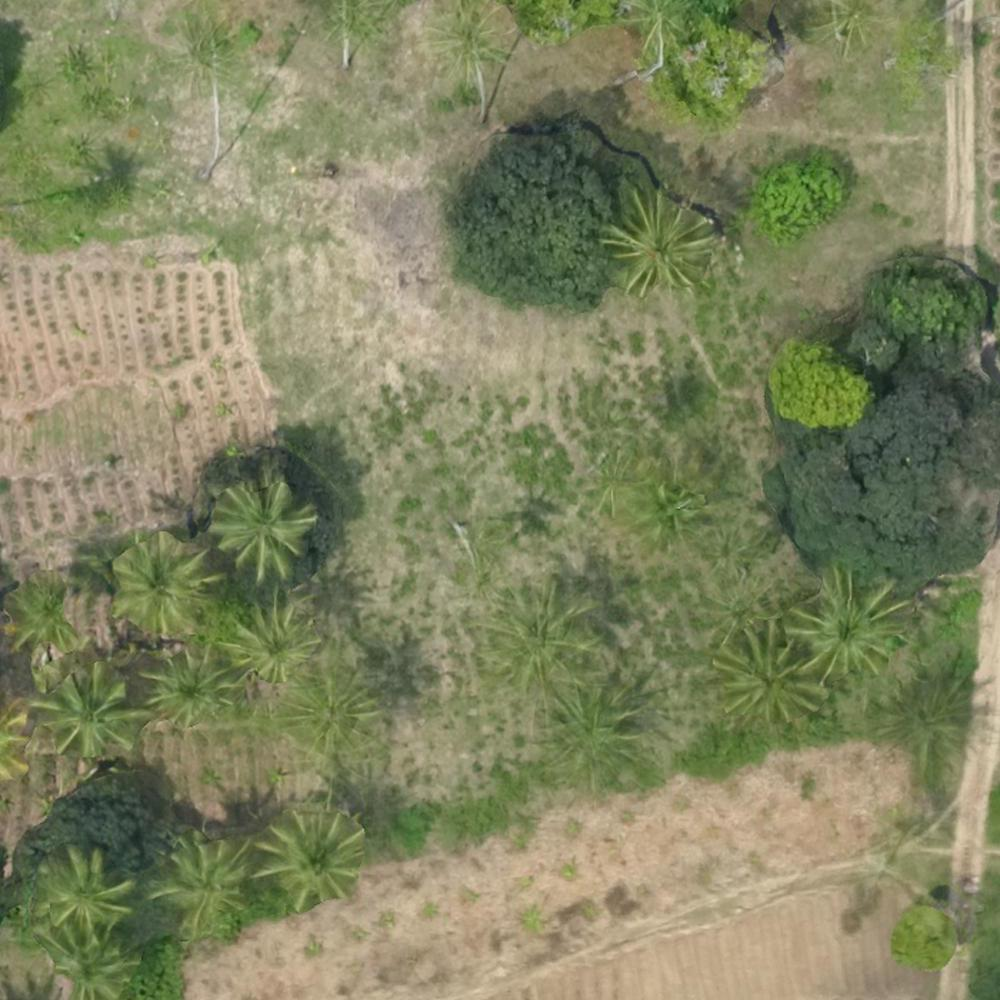Palm: (792, 571, 903, 679), (716, 626, 822, 727), (112, 542, 218, 639), (540, 690, 647, 781), (34, 664, 135, 759), (258, 809, 361, 901), (493, 588, 592, 683), (607, 191, 703, 288), (150, 836, 249, 930), (211, 485, 307, 579), (33, 848, 132, 934), (144, 642, 240, 729), (225, 593, 317, 678), (43, 926, 140, 1000)
